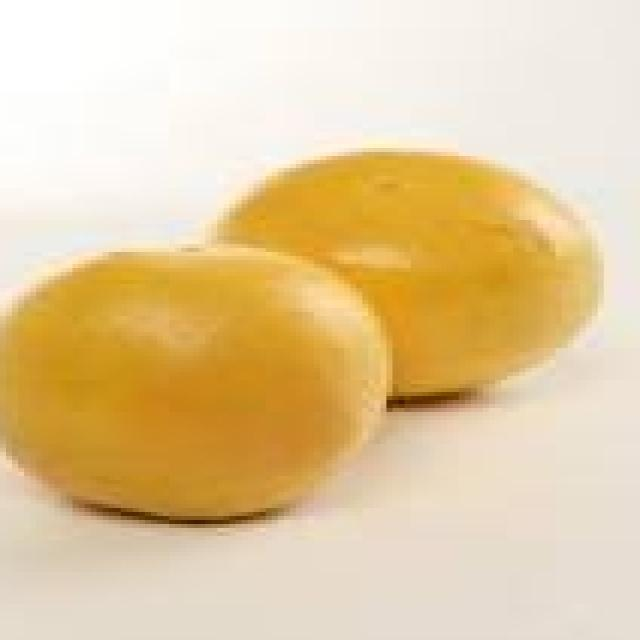greapefurit: (0, 144, 622, 532)
